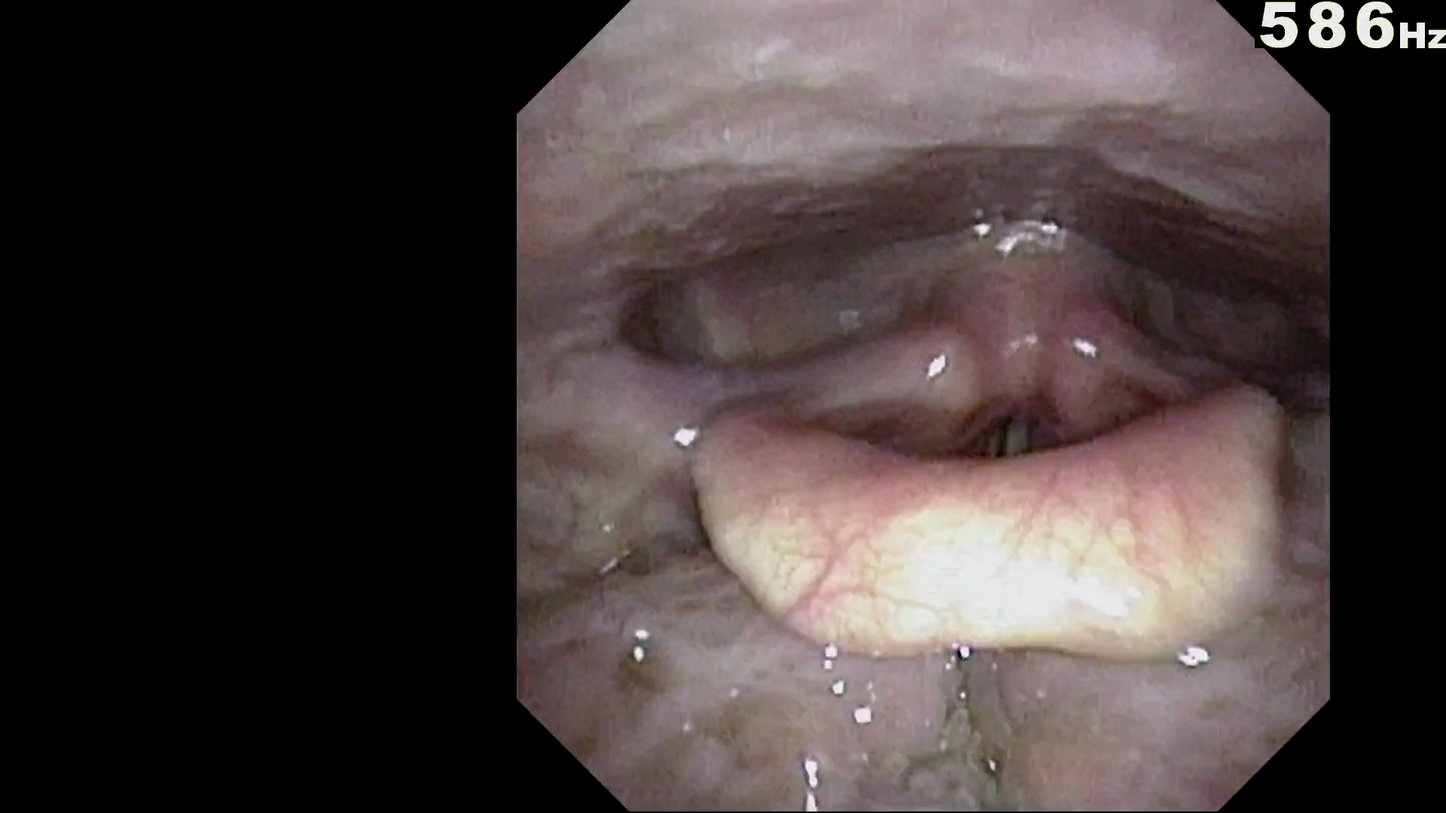epiglottis: (683, 302, 1271, 530)
